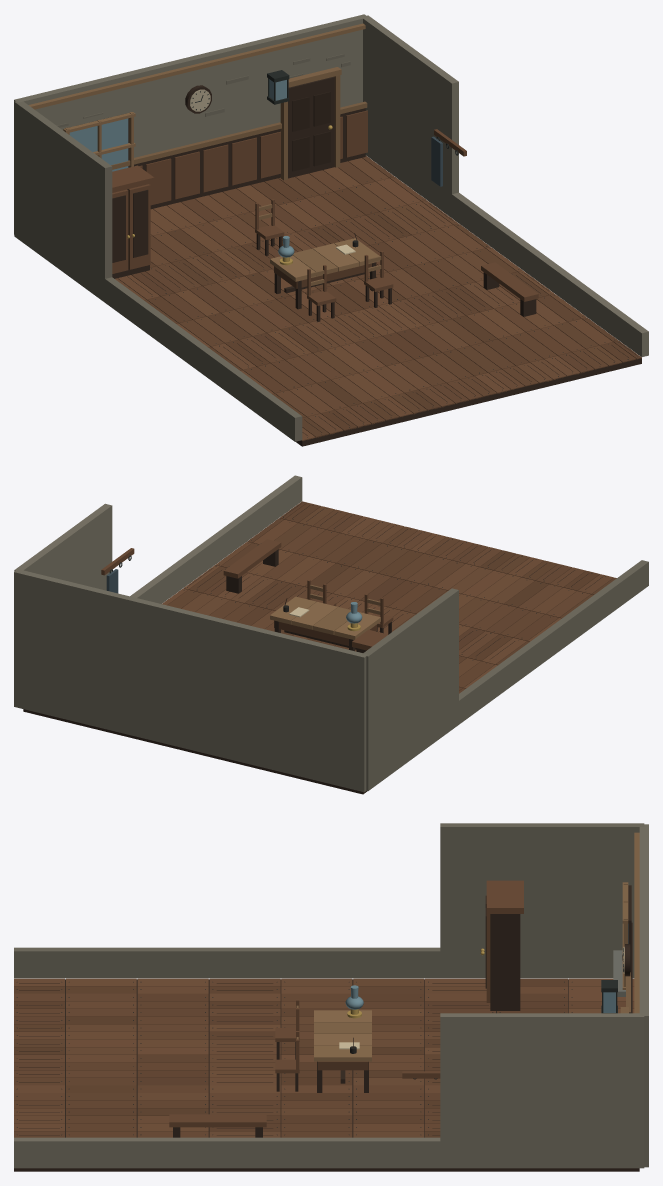
The model's file is station-interview.glb.
3 renders of one model, top to bottom at view 1: azimuth 30°, elevation 25°; view 2: azimuth 150°, elevation 25°; view 3: azimuth 270°, elevation 25°, orthographic. The views are drawn at different scales.
Visible parts, largest first — view 1: station-interview-wood, station-interview-plaster, station-interview-woodDark, station-interview-woodLight, station-interview-glass, station-interview-iron; view 2: station-interview-plaster, station-interview-wood, station-interview-woodDark, station-interview-woodLight; view 3: station-interview-plaster, station-interview-wood, station-interview-woodDark, station-interview-woodLight, station-interview-iron, station-interview-glass.
Boxes of the visible parts, left/top/right/bottom form: station-interview-wood: left=112, top=110, right=641, bottom=440; station-interview-plaster: left=14, top=14, right=648, bottom=441; station-interview-woodDark: left=112, top=76, right=641, bottom=446; station-interview-woodLight: left=29, top=23, right=381, bottom=285; station-interview-glass: left=69, top=79, right=294, bottom=257; station-interview-iron: left=151, top=70, right=637, bottom=437; station-interview-plaster: left=14, top=475, right=648, bottom=792; station-interview-wood: left=101, top=501, right=616, bottom=693; station-interview-woodDark: left=23, top=503, right=602, bottom=794; station-interview-woodLight: left=270, top=585, right=380, bottom=639; station-interview-plaster: left=14, top=823, right=648, bottom=1168; station-interview-wood: left=14, top=880, right=634, bottom=1137; station-interview-woodDark: left=14, top=885, right=639, bottom=1171; station-interview-woodLight: left=296, top=832, right=639, bottom=1061; station-interview-iron: left=16, top=948, right=623, bottom=1135; station-interview-glass: left=345, top=924, right=628, bottom=1012.
Size of the model in its own units: 9.9 by 3.77 by 13.7.
